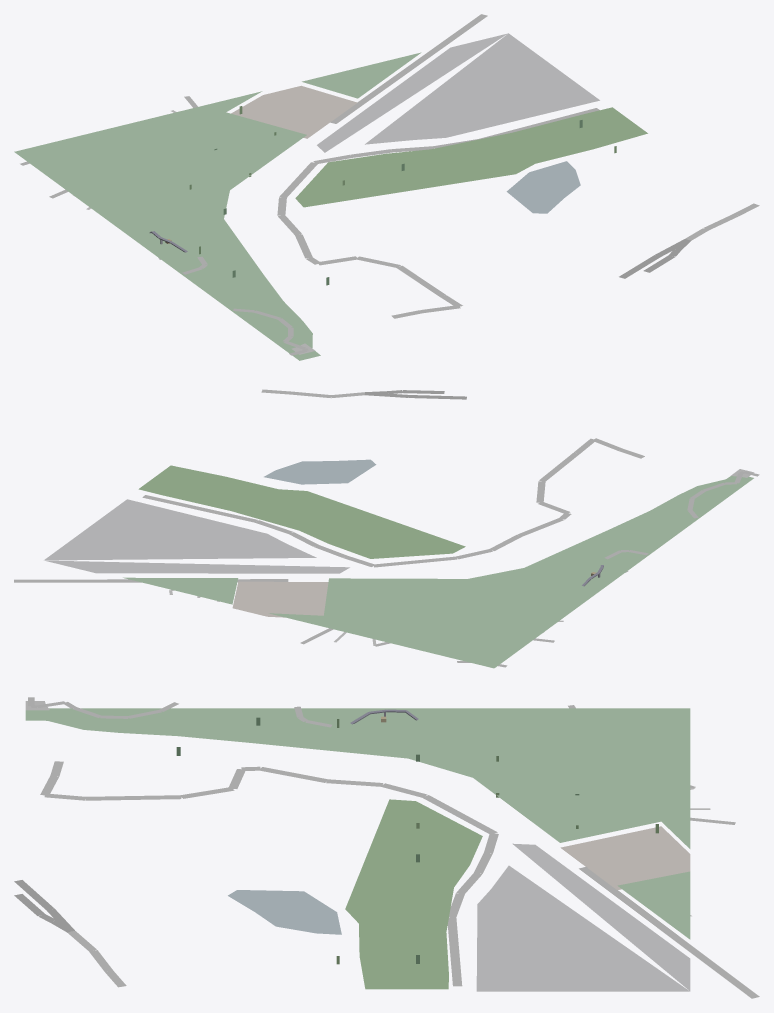
3 renders of one model, top to bottom at view 1: azimuth 30°, elevation 25°; view 2: azimuth 150°, elevation 25°; view 3: azimuth 270°, elevation 25°, orthographic. The views are drawn at different scales.
Bounding box in the file's own units: 521 × 17.57 × 561.
